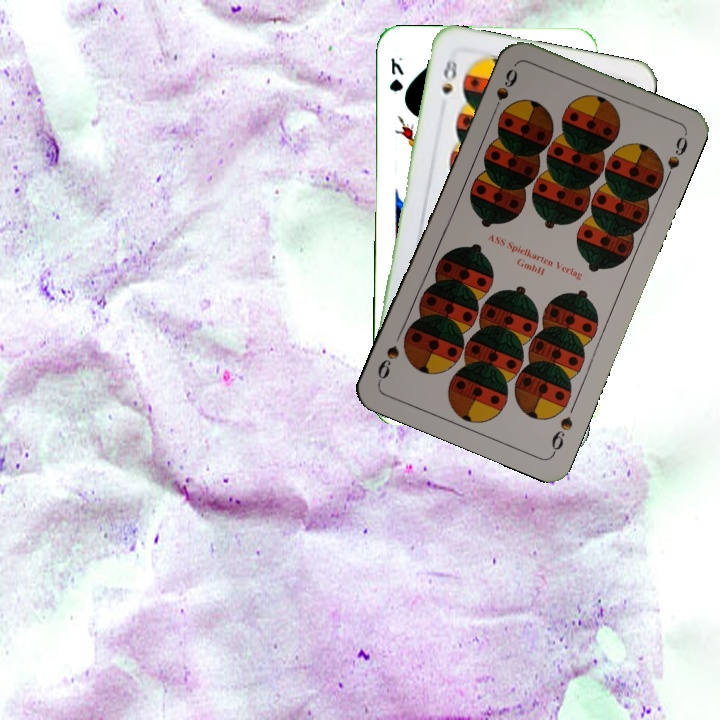GK: (386, 53, 407, 94)
S8: (437, 54, 460, 97)
S9: (488, 65, 521, 119), (547, 412, 576, 457)
